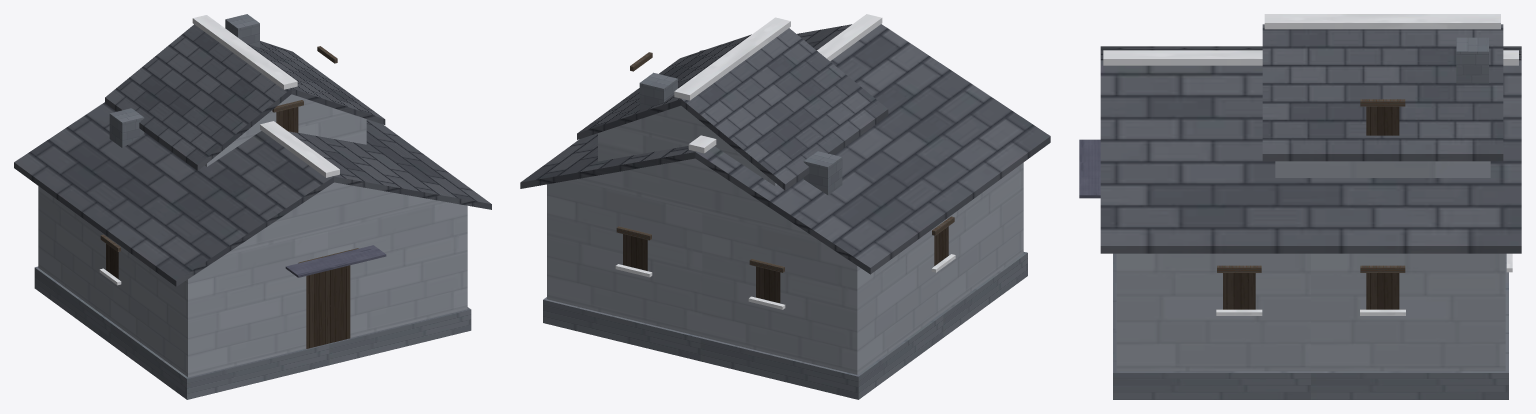
The model's file is ae_snow_stone_large_terrace_lod1.glb.
The picture shows the model from 3 angles, left to right: view 1: azimuth 30°, elevation 25°; view 2: azimuth 150°, elevation 25°; view 3: azimuth 270°, elevation 25°; orthographic projection. The views are drawn at different scales.
Parts seen in each view (by area): view 1: ae_snow_stone_large_terrace_lod1; view 2: ae_snow_stone_large_terrace_lod1; view 3: ae_snow_stone_large_terrace_lod1.
Boxes of the visible parts, <box> form: ae_snow_stone_large_terrace_lod1: <box>14,14,491,399</box>; ae_snow_stone_large_terrace_lod1: <box>520,14,1050,399</box>; ae_snow_stone_large_terrace_lod1: <box>1079,14,1521,399</box>.
Bounding box in the file's own units: 7.9 × 5.61 × 7.39.
1 material, 1 textured.
